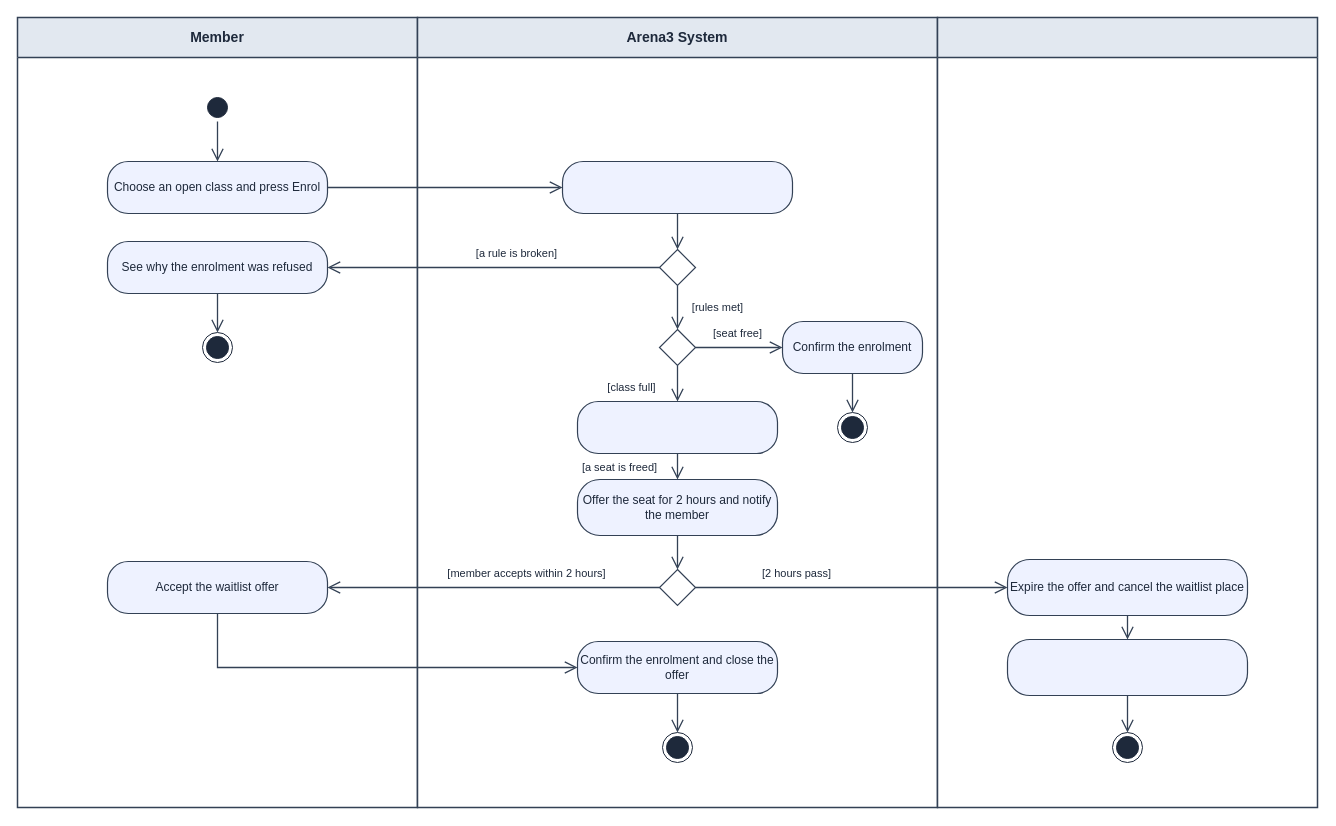
Some shapes in this 1336 by 826 pixel diagram are drawn without their labels. Here are the shapes that lost their labels. From the top down, the box of each, then its label:
(561, 160, 793, 214): Check the enrolment rules (BR-18, BR-19, BR-20, BR-22)
(576, 400, 778, 454): Add the member to the class waitlist
(936, 16, 1318, 808): Scheduled job (every 15 s)
(1006, 638, 1248, 696): Offer the seat to the next member on the waitlist
